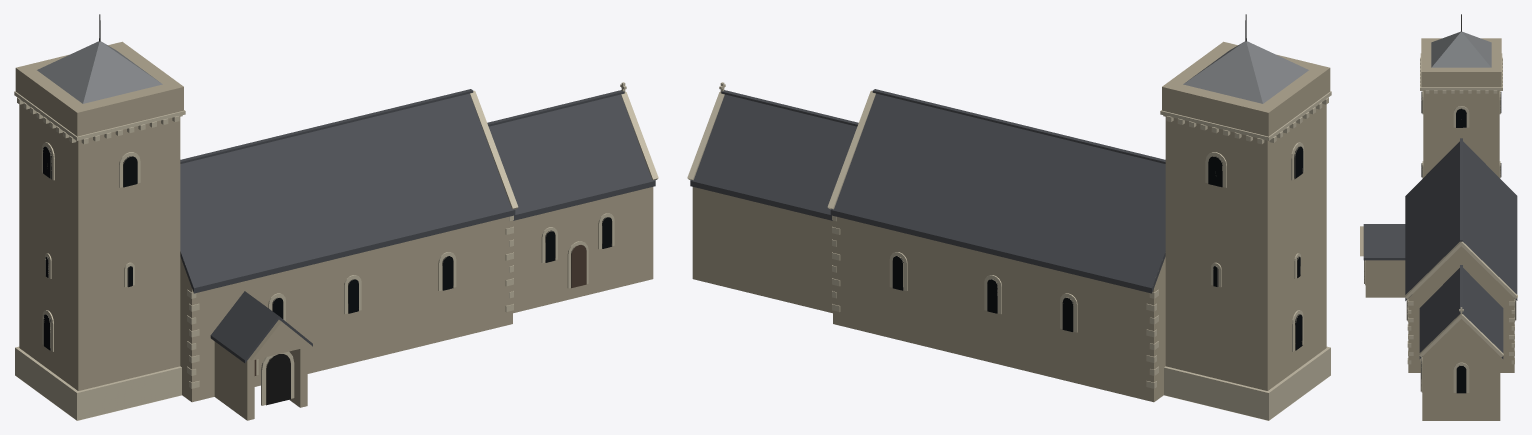
The model's file is context.church.norman_tower.glb.
3 views of the same model, side by side, from view 1: azimuth 30°, elevation 25°; view 2: azimuth 150°, elevation 25°; view 3: azimuth 270°, elevation 25° (orthographic). The views are drawn at different scales.
Visible parts, largest first — view 1: main__stone_aa8, main__clad_455, main__stone_cba, main__clad_778, main__glass_dark, main__timber_111, main__timber_543, main__stone_987; view 2: main__stone_aa8, main__clad_455, main__stone_cba, main__clad_778, main__glass_dark; view 3: main__stone_aa8, main__clad_455, main__stone_cba, main__clad_778, main__glass_dark, main__stone_987.
Part boxes in pixels (x1,y1,x2,y2): main__stone_aa8: (15, 41, 653, 420); main__clad_455: (180, 89, 655, 363); main__stone_cba: (14, 82, 658, 420); main__clad_778: (37, 41, 162, 103); main__glass_dark: (43, 146, 611, 350); main__timber_111: (266, 354, 290, 404); main__timber_543: (254, 245, 586, 375); main__stone_987: (42, 146, 612, 405); main__stone_aa8: (692, 41, 1330, 402); main__clad_455: (690, 89, 1165, 293); main__stone_cba: (687, 82, 1331, 420); main__clad_778: (1183, 41, 1308, 103); main__glass_dark: (892, 146, 1303, 350); main__stone_aa8: (1360, 38, 1514, 420); main__clad_455: (1363, 138, 1517, 358); main__stone_cba: (1365, 53, 1517, 392); main__clad_778: (1431, 31, 1491, 67); main__glass_dark: (1407, 92, 1515, 393); main__stone_987: (1364, 92, 1516, 391).
Bounding box in the file's own units: 30.77 × 18.76 × 11.13.
